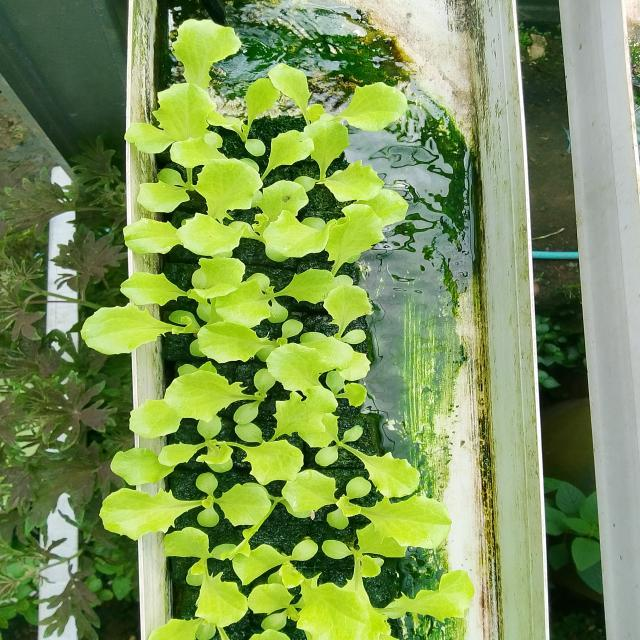Baby: (99, 357, 249, 468), (226, 36, 386, 135), (51, 18, 216, 102), (288, 136, 407, 248), (236, 295, 361, 392), (263, 345, 371, 456), (101, 553, 231, 640), (276, 489, 405, 568), (103, 477, 208, 573), (238, 231, 406, 281), (120, 315, 213, 403), (178, 590, 330, 640), (94, 241, 184, 325), (114, 83, 190, 176), (205, 318, 284, 404), (190, 516, 282, 588), (95, 178, 209, 235), (272, 274, 391, 328), (181, 100, 255, 162), (195, 148, 250, 215)
